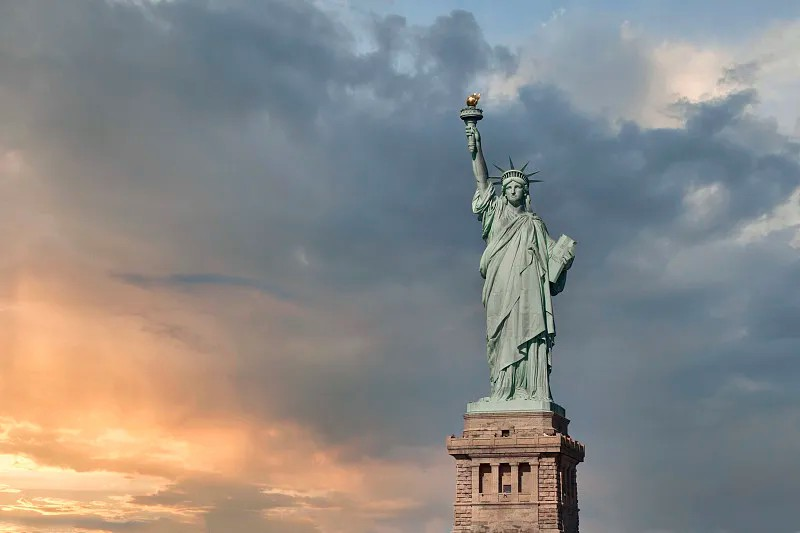SL: (446, 92, 586, 533)
